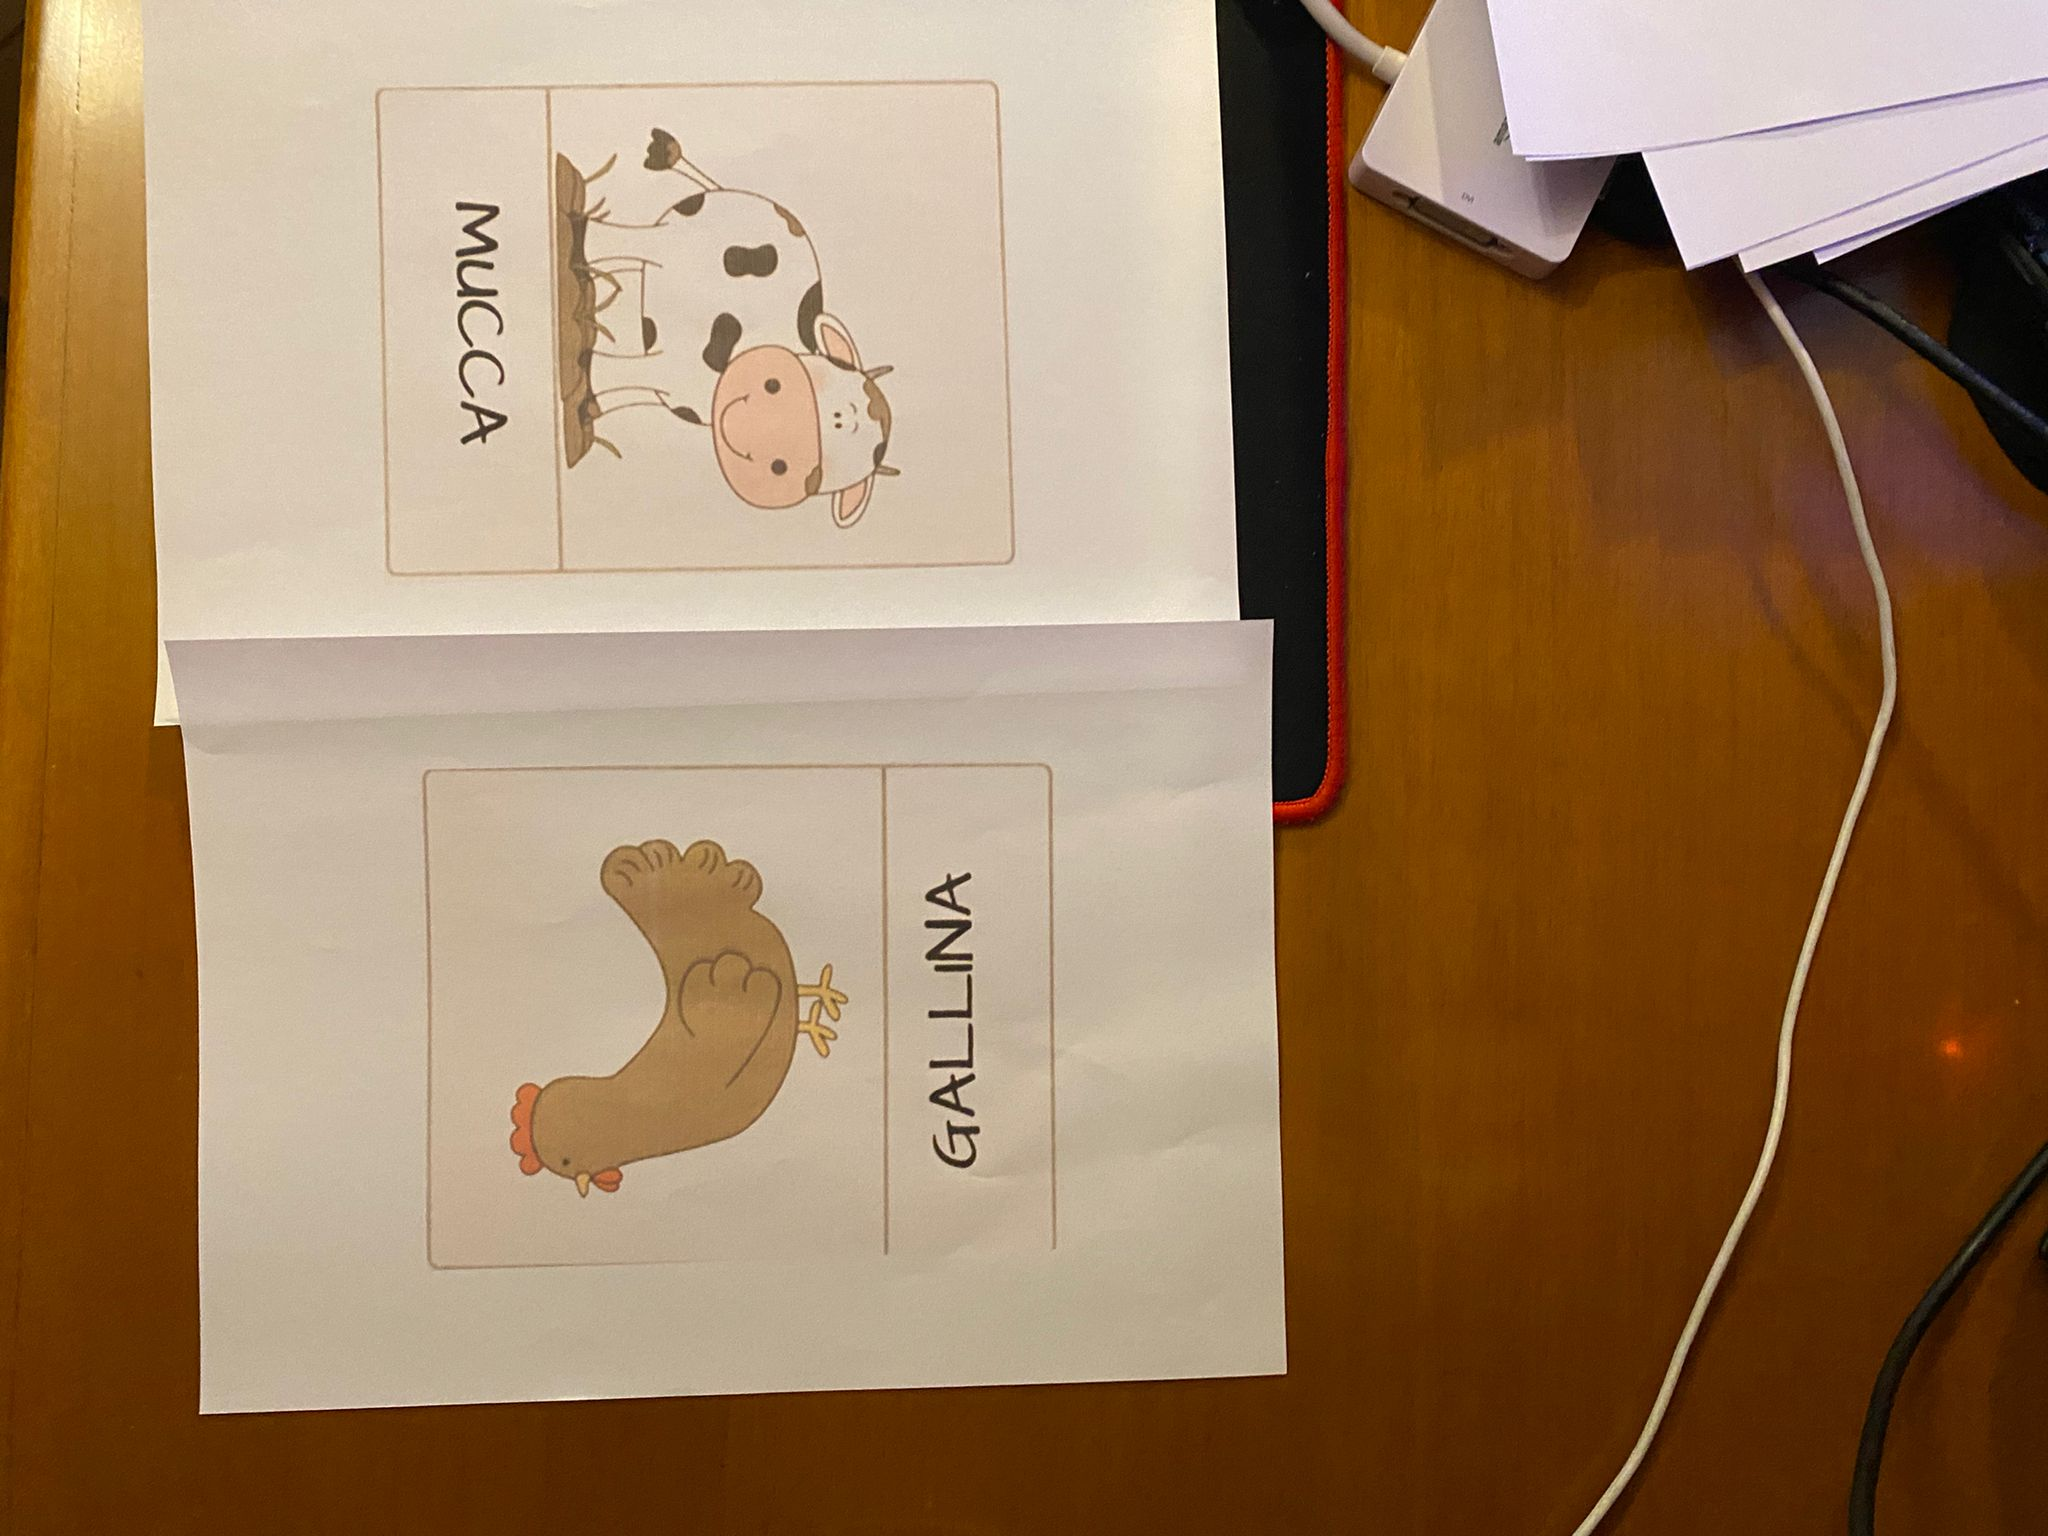gallina: (423, 777, 1060, 1264)
mucca: (373, 91, 1014, 553)
